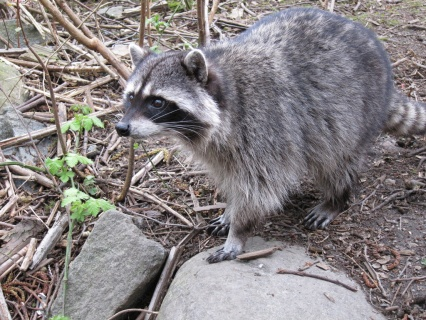Raccoon: (101, 5, 426, 263)
